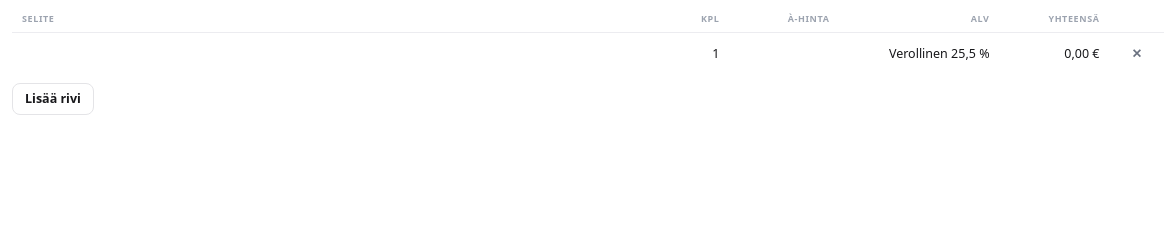
Test: LaskuriviTaulukko koodit-propti › tarjoaa annetut ALV-koodit (ostokoodit)
Step 1. Click the button with aria-label "ALV, rivi 1" → (939, 54), box [889,45,990,63]
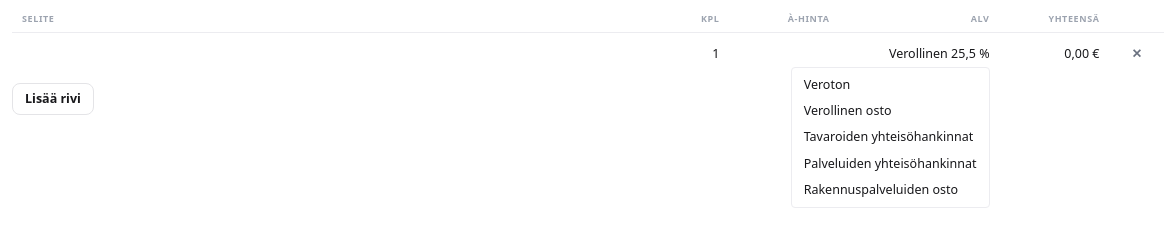
expect the option "Verollinen osto" is shown: met, box [796,98,984,124]
